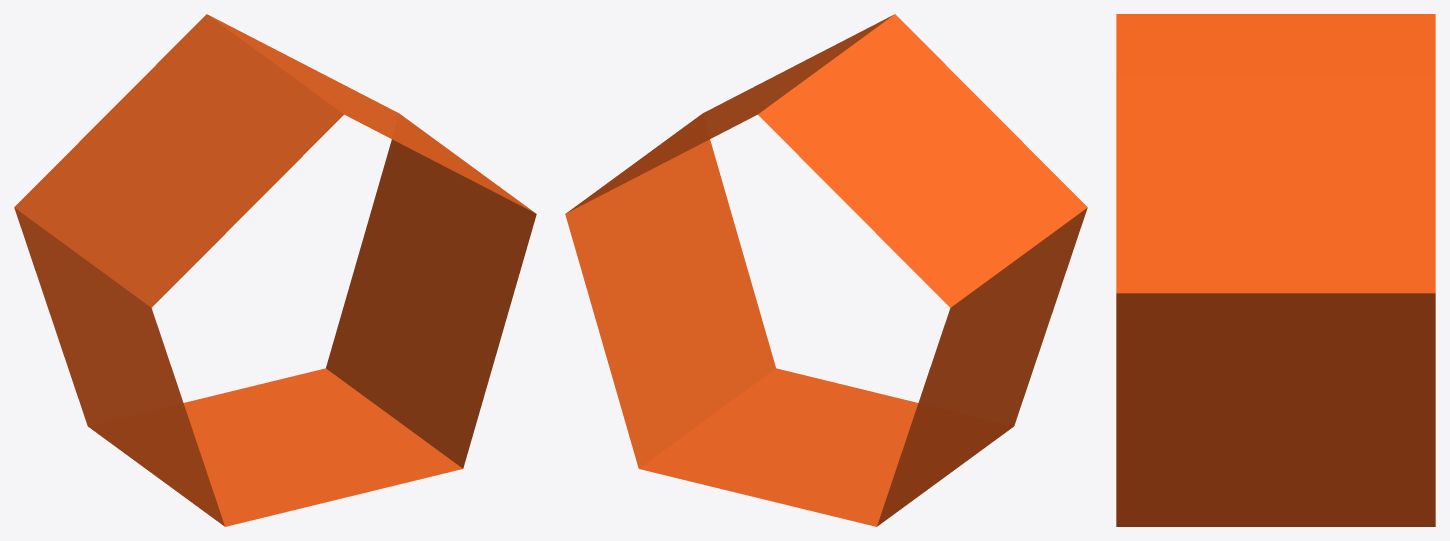
Rendered from PentagonalPrismA.obj.
The picture shows the model from 3 angles, left to right: view 1: azimuth 30°, elevation 25°; view 2: azimuth 150°, elevation 25°; view 3: azimuth 270°, elevation 25°; orthographic projection. The views are drawn at different scales.
Bounding box in the file's own units: 1.62 × 1.54 × 1.
